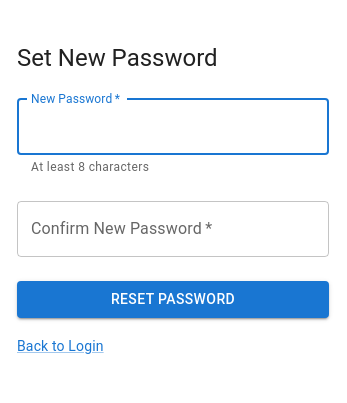
it: ResetPasswordPage › shows error when passwords do not match
The image size is (347, 403).
Type "password123" into the password field labelled "New Password *" at (173,126), box [17,98,329,154]
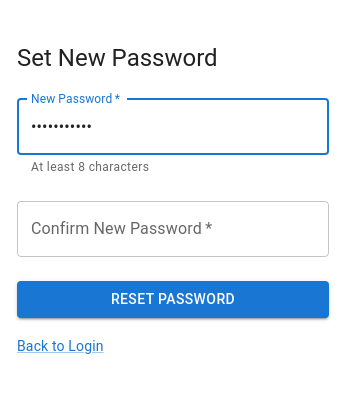
Type "different12" into the password field labelled "Confirm New Password *" at (173,229), box [17,201,329,257]
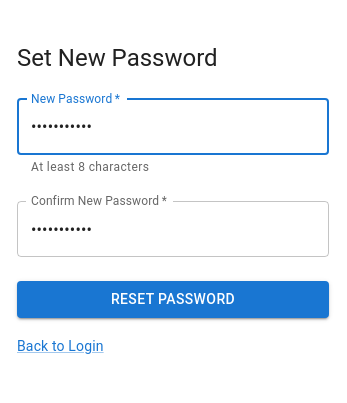
Click the button "Reset Password" at (173,300), box [17,281,329,318]
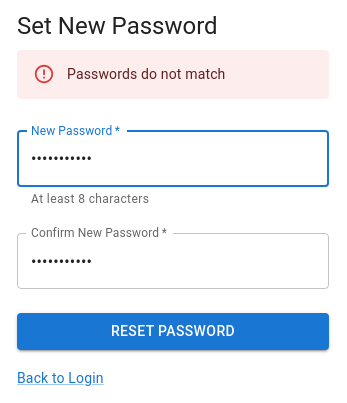
Now the text "Passwords do not match" is shown, box [67,66,226,82]
